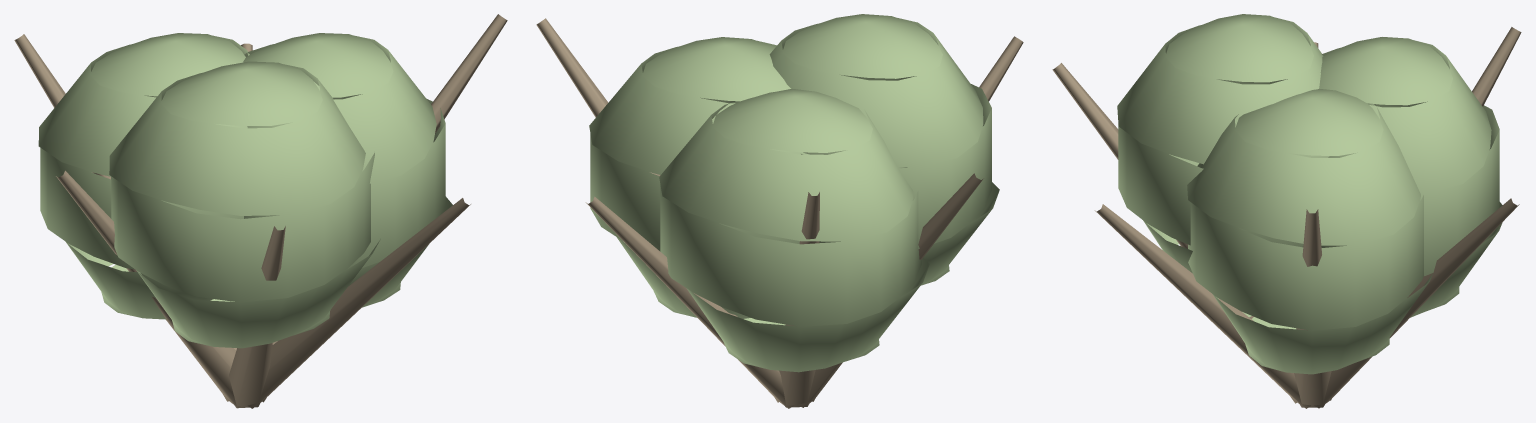
Rendered from salvia-rosmarinus-light.glb.
The picture shows the model from 3 angles, left to right: view 1: azimuth 30°, elevation 25°; view 2: azimuth 150°, elevation 25°; view 3: azimuth 270°, elevation 25°; orthographic projection.
Parts seen in each view (by area): view 1: salvia-rosmarinus; view 2: salvia-rosmarinus; view 3: salvia-rosmarinus.
Boxes of the visible parts, bbox=[...] form: salvia-rosmarinus: bbox=[14, 14, 507, 408]; salvia-rosmarinus: bbox=[536, 14, 1023, 408]; salvia-rosmarinus: bbox=[1052, 14, 1521, 408].
Bounding box in the file's own units: 1.06 × 0.8293 × 0.9784.
